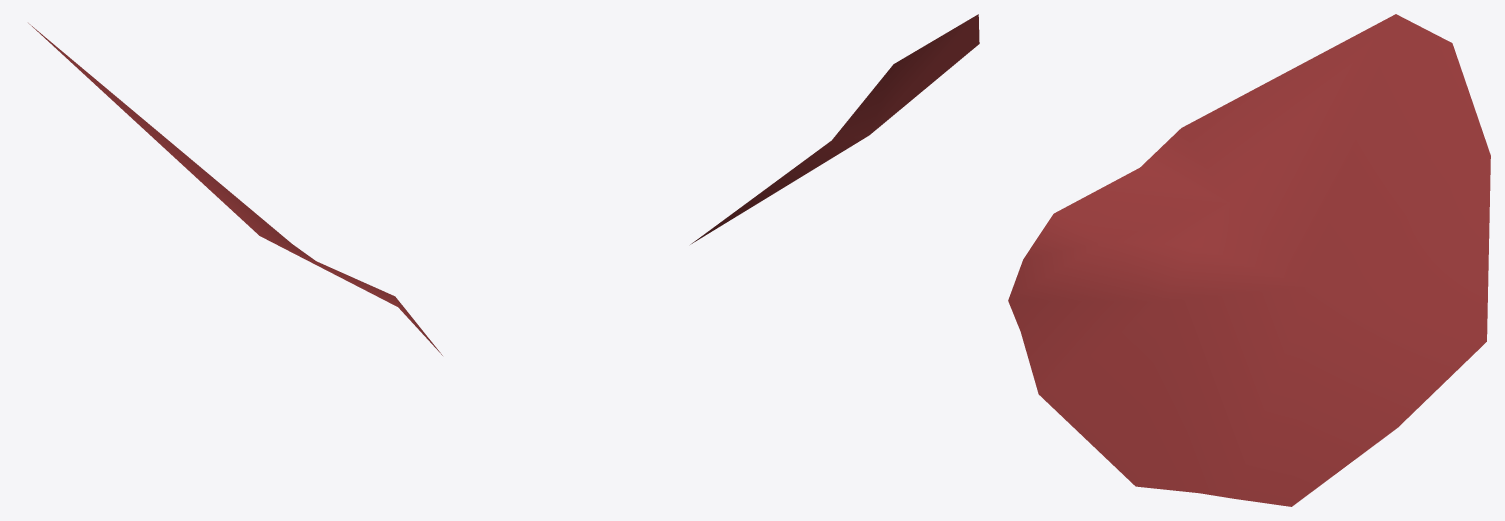
File: fibularis-tertius-muscle-el.glb
3 views of the same model, side by side, from view 1: azimuth 30°, elevation 25°; view 2: azimuth 150°, elevation 25°; view 3: azimuth 270°, elevation 25° (orthographic). The views are drawn at different scales.
Parts seen in each view (by area): view 1: Fibularis tertius muscle.el; view 2: Fibularis tertius muscle.el; view 3: Fibularis tertius muscle.el.
Part boxes in pixels (box(x1,y1,x2,y2)): Fibularis tertius muscle.el: box(28, 23, 442, 355); Fibularis tertius muscle.el: box(690, 14, 979, 244); Fibularis tertius muscle.el: box(1008, 14, 1490, 506).
Bounding box in the file's own units: 0.00625 × 0.00865 × 0.0103.
